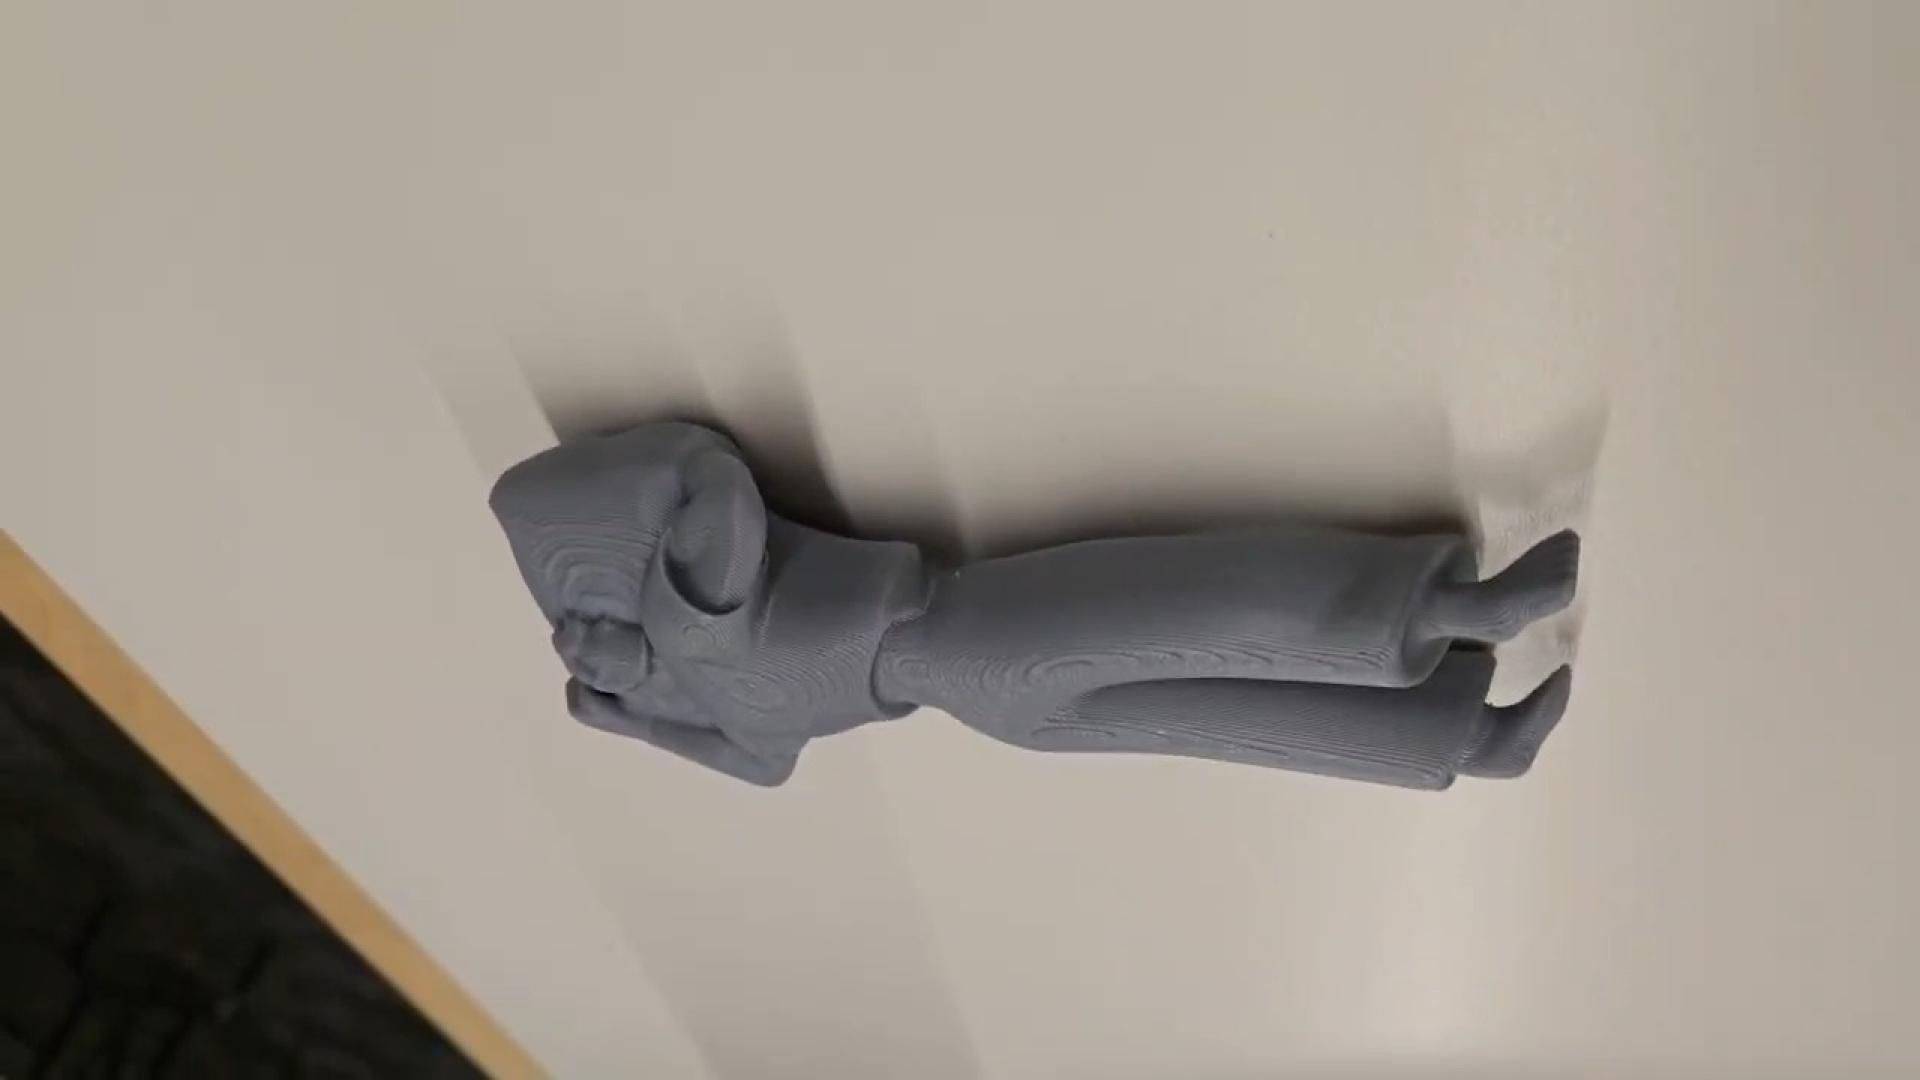Bad-style: (481, 413, 1586, 806)
